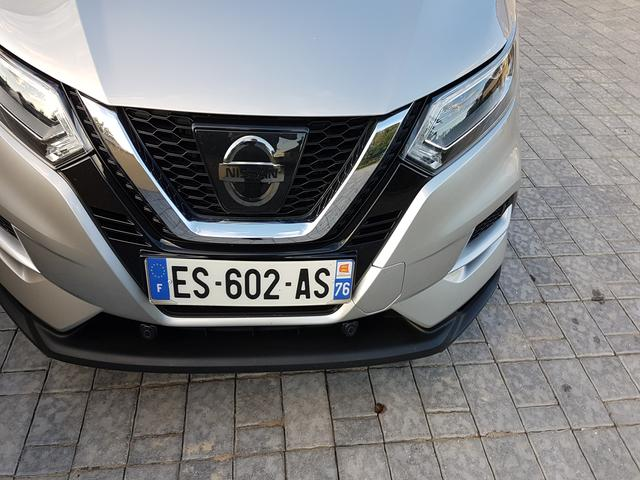Quashquai: (122, 220, 375, 331)
